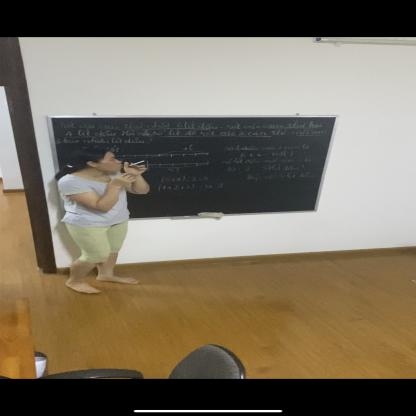cigarette: (128, 160, 146, 166)
person: (57, 146, 150, 292)
